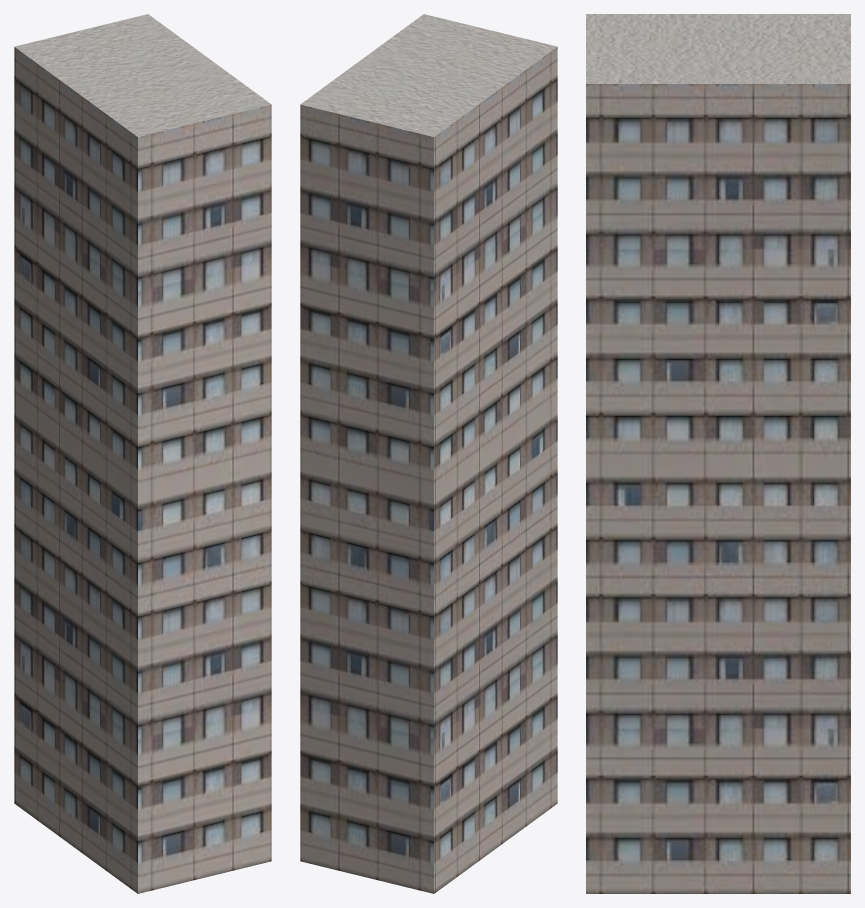
Rendered from building_010.glb.
The picture shows the model from 3 angles, left to right: view 1: azimuth 30°, elevation 25°; view 2: azimuth 150°, elevation 25°; view 3: azimuth 270°, elevation 25°; orthographic projection. The views are drawn at different scales.
Visible parts, largest first — view 1: building_010.002; view 2: building_010.002; view 3: building_010.002.
Boxes of the visible parts, x1,y1,x2,y2 form: building_010.002: [14, 14, 271, 893]; building_010.002: [300, 14, 557, 893]; building_010.002: [586, 14, 850, 893].
Bounding box in the file's own units: 7.5 × 40.5 × 12.
Materials: 2 (2 with a texture image).
